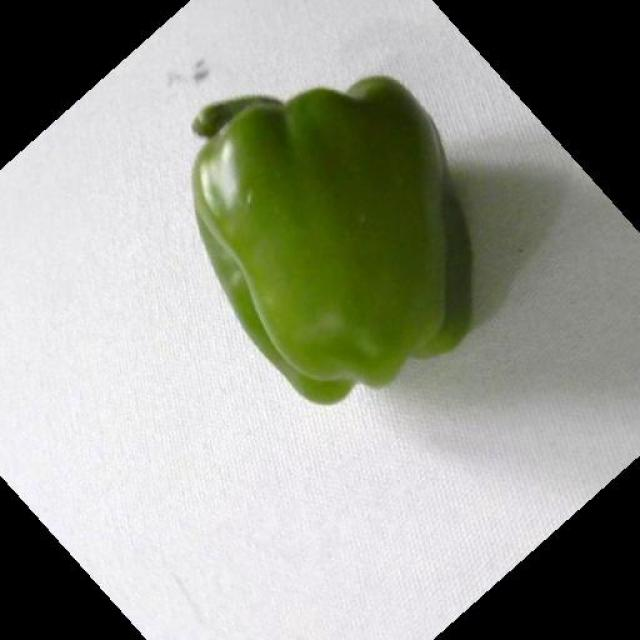Fresh_Capsicum: (187, 87, 497, 404)
